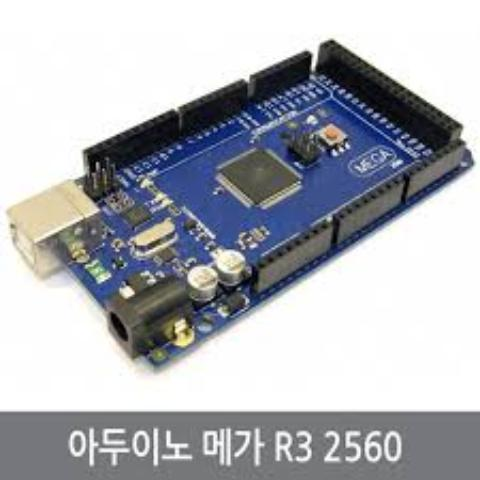Arduino-Mega: (3, 33, 479, 385)
